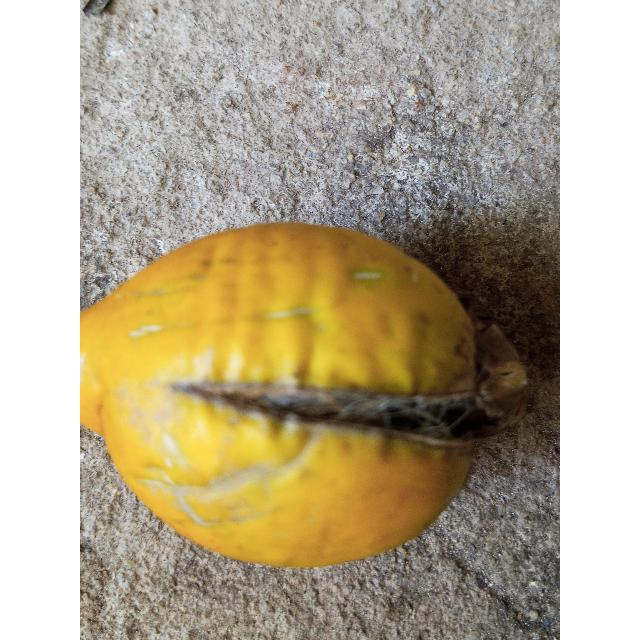damaged: (80, 222, 526, 571)
